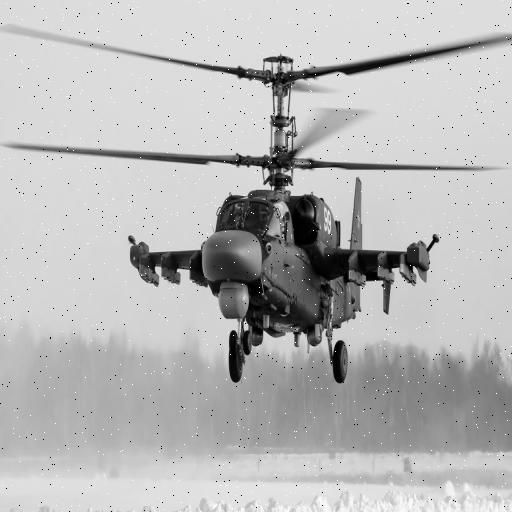helicopter: (3, 16, 512, 394)
